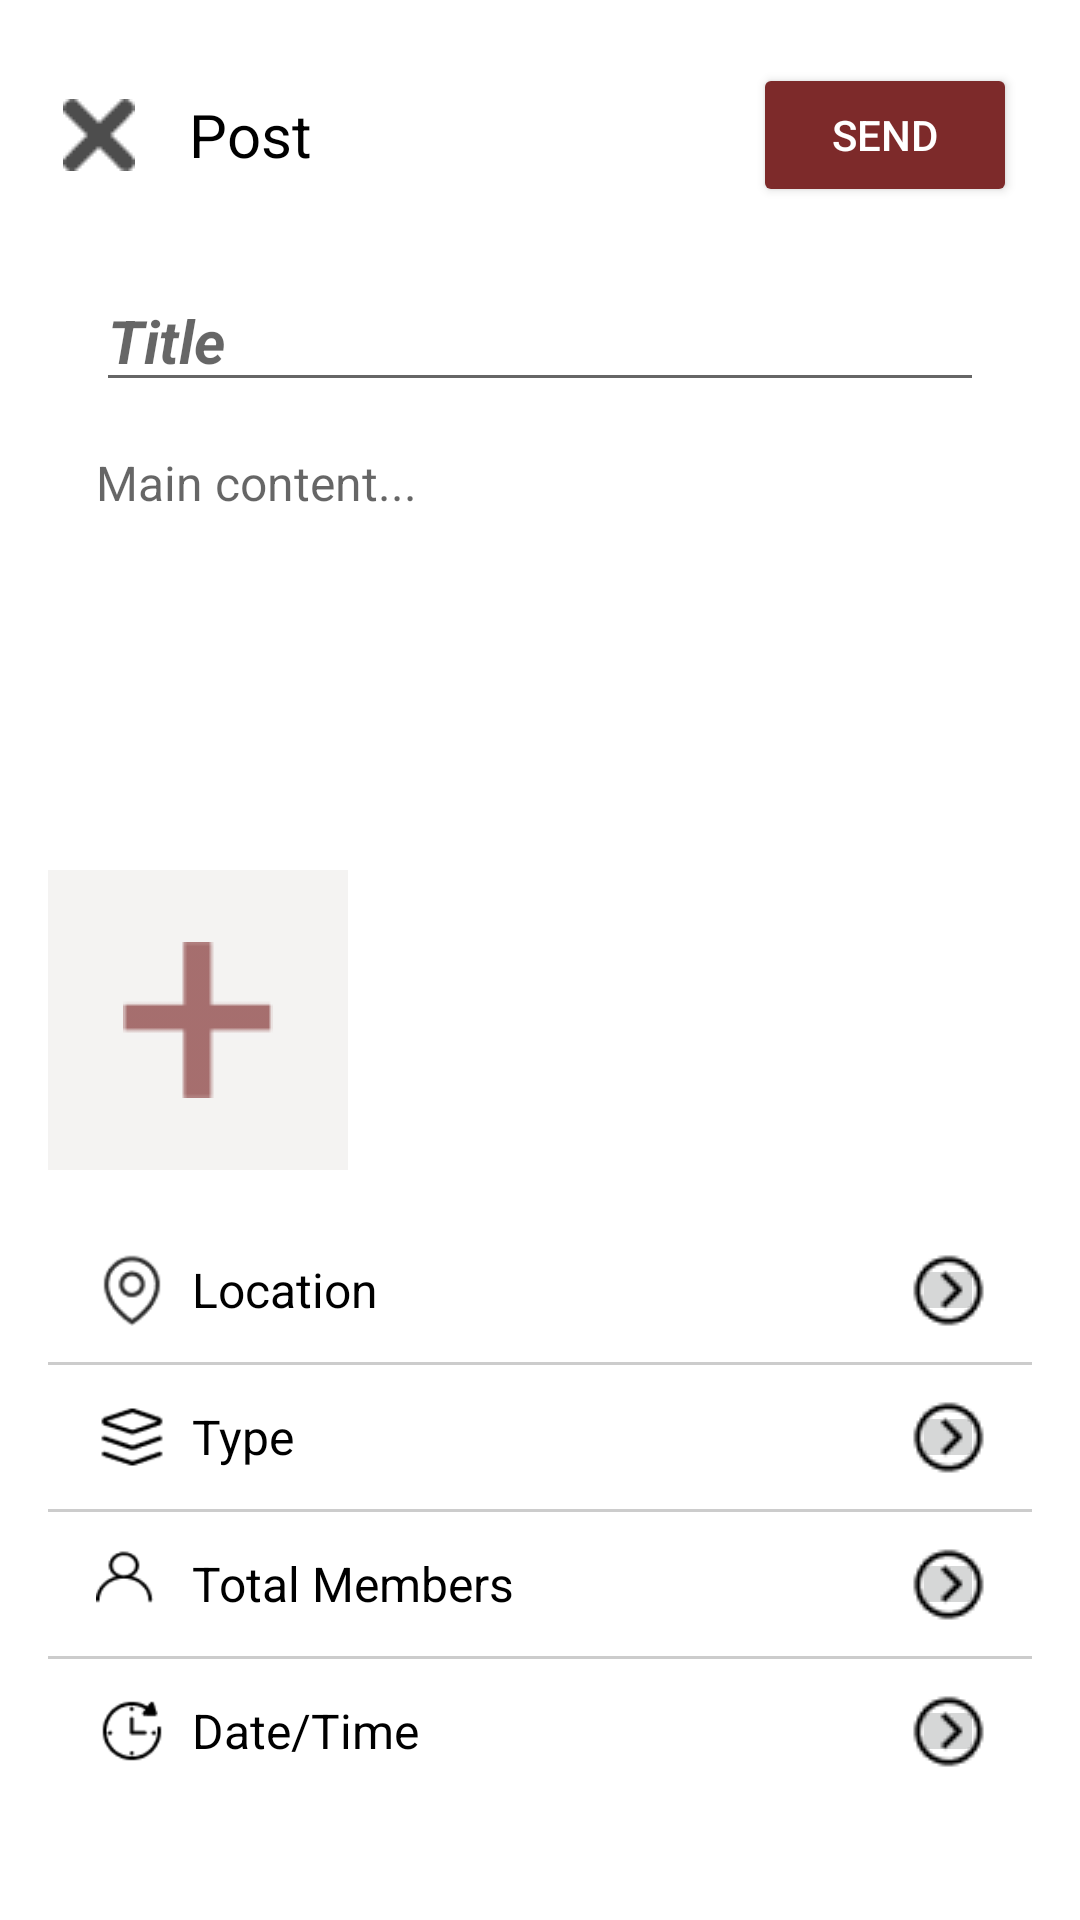

Where icons sit on this 1080px×1920px app screen, as (x1, y1, x2, y2):
map: (103, 1255, 161, 1326)
more: (913, 1255, 984, 1326), (913, 1402, 984, 1473), (913, 1549, 984, 1620), (913, 1696, 984, 1767)
people: (96, 1551, 153, 1603)
plus: (48, 870, 348, 1170)
